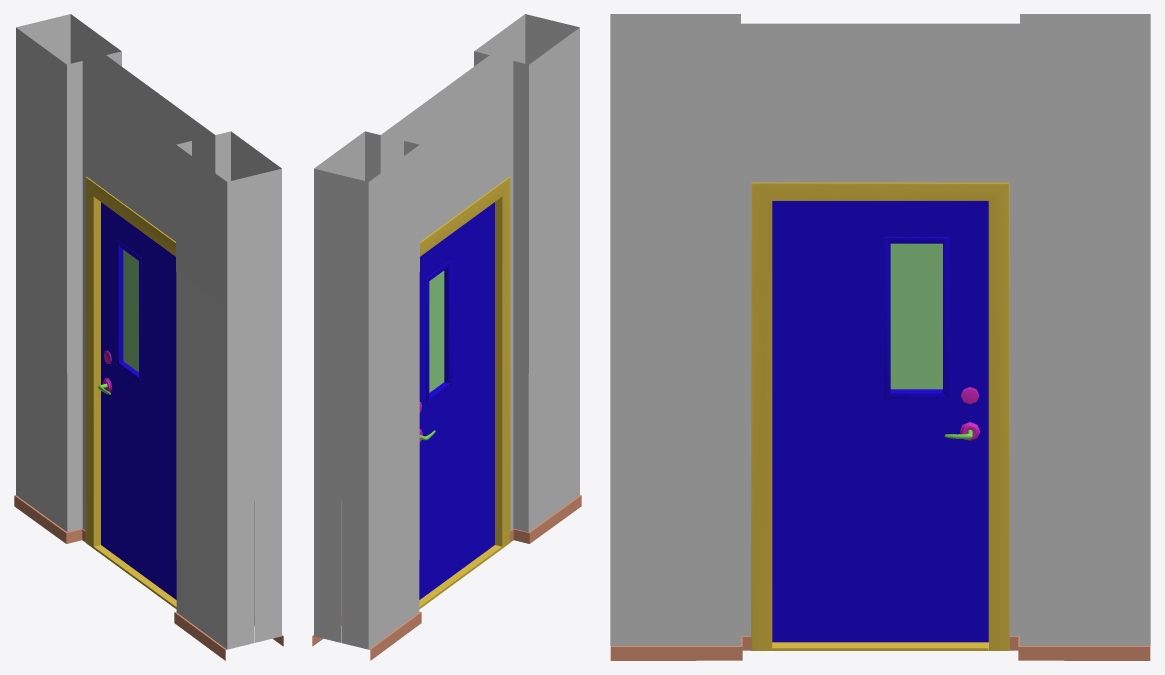
The model's file is Lockerroomdoor.fbx.
The picture shows the model from 3 angles, left to right: view 1: azimuth 30°, elevation 25°; view 2: azimuth 150°, elevation 25°; view 3: azimuth 270°, elevation 25°; orthographic projection. The views are drawn at different scales.
Parts seen in each view (by area): view 1: Cube.004, Cube.001, Cube.002; view 2: Cube.004, Cube.001, Cube.002; view 3: Cube.004, Cube.001, Cube.002.
Boxes of the visible parts, x1,y1,x2,y2 form: Cube.004: (14, 14, 283, 660); Cube.001: (101, 202, 176, 599); Cube.002: (103, 239, 141, 392); Cube.004: (312, 14, 581, 660); Cube.001: (419, 202, 494, 599); Cube.002: (419, 260, 452, 442); Cube.004: (610, 14, 1150, 660); Cube.001: (772, 201, 988, 642); Cube.002: (884, 237, 980, 440).
Bounding box in the file's own units: 31.76 × 250 × 200.
